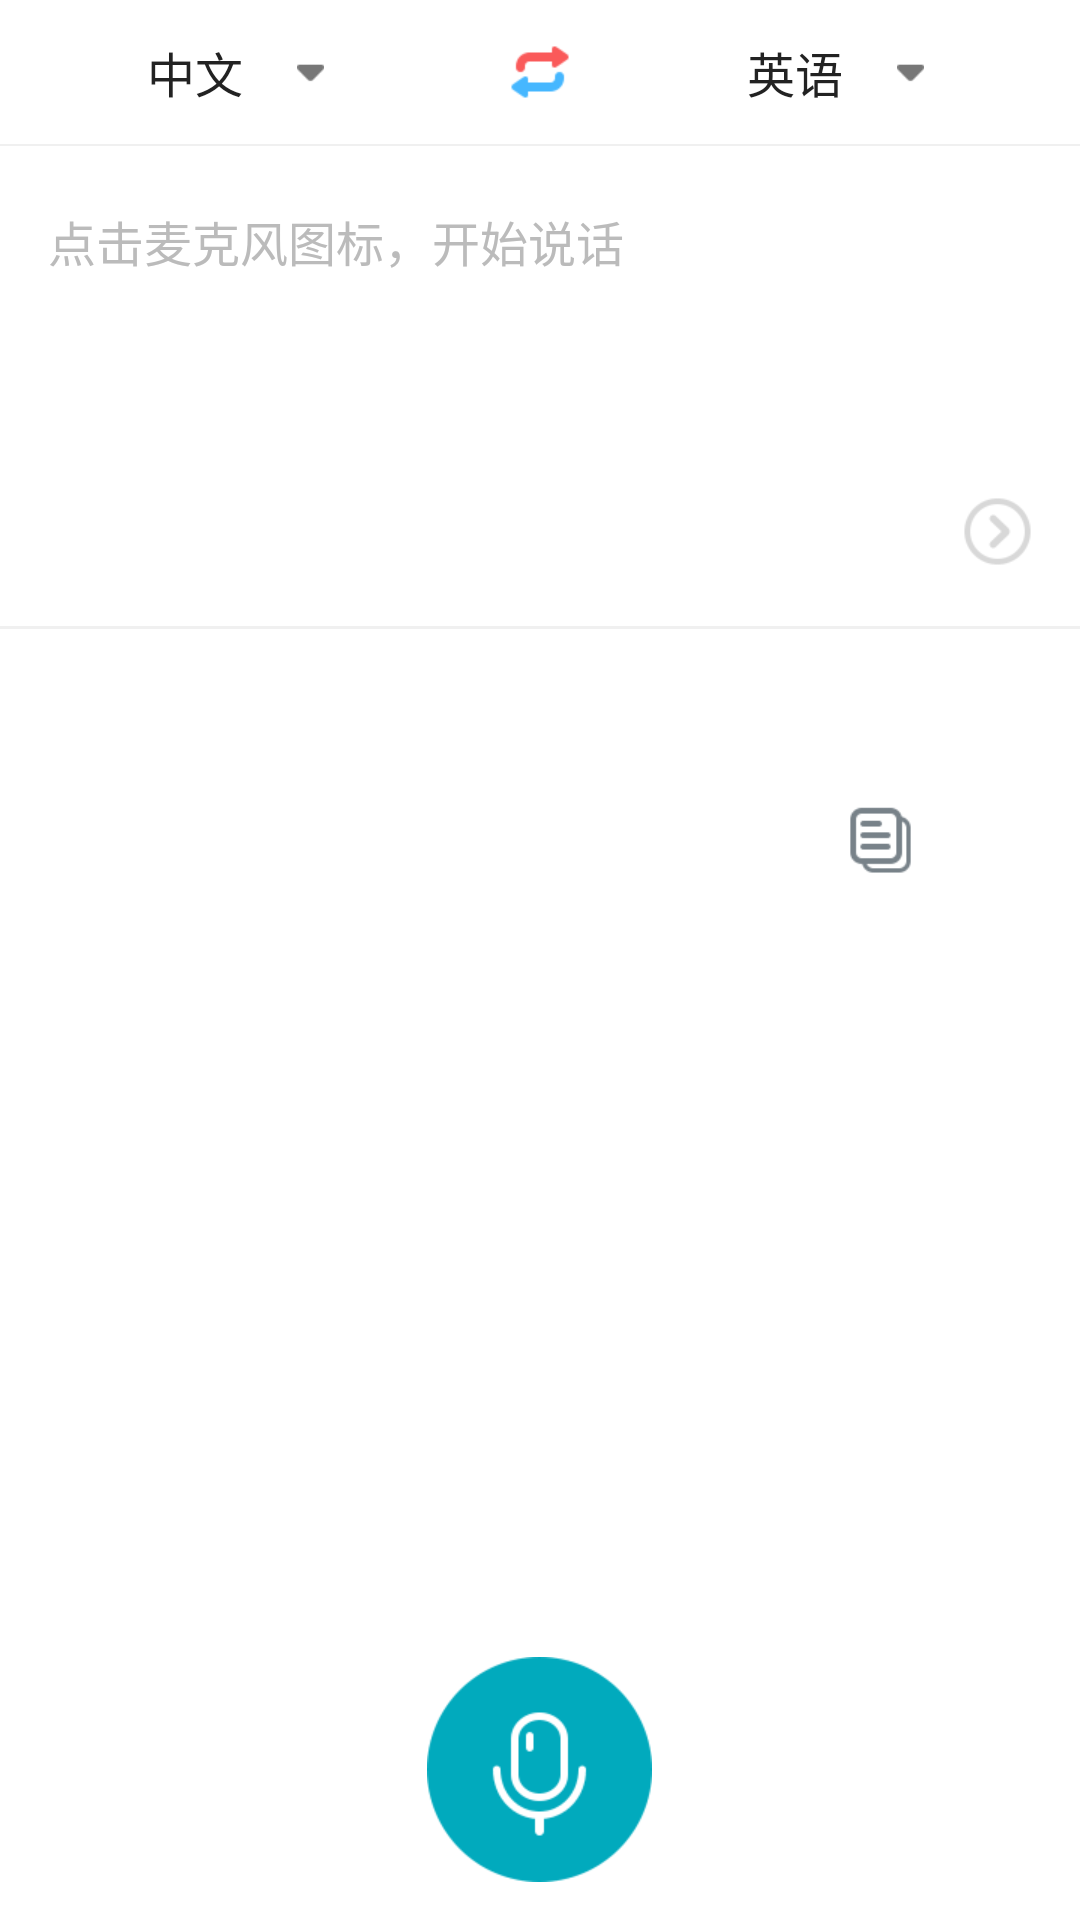

Named icons in this screenshot (1080 × 1920) and their bounding boxes, region(x1, y1, x2, y2):
audio ng: region(427, 1657, 652, 1882)
change: region(511, 46, 569, 98)
change down: region(297, 64, 324, 81), region(897, 64, 924, 81)
excute off: region(965, 499, 1030, 564)
